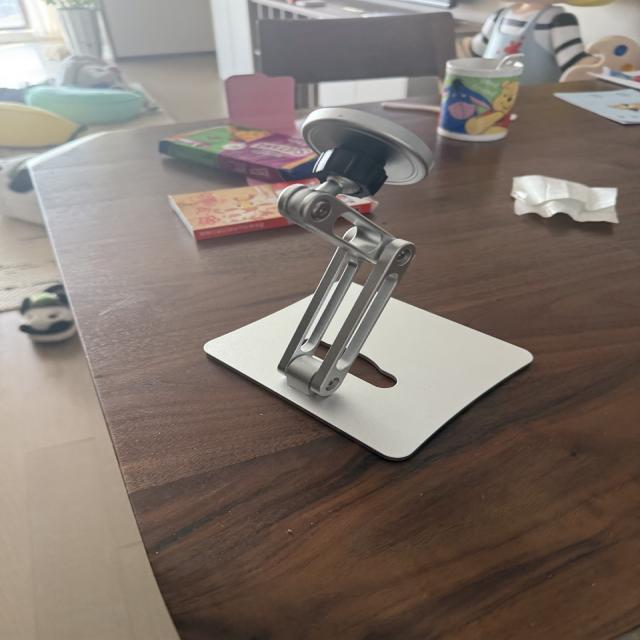phone holder: (193, 105, 546, 467)
